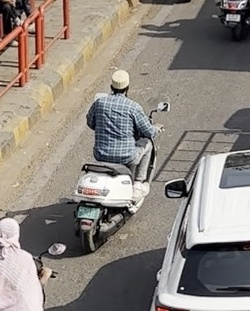BikeWithRider: (65, 65, 173, 255)
NoHelmet: (105, 65, 134, 97)
